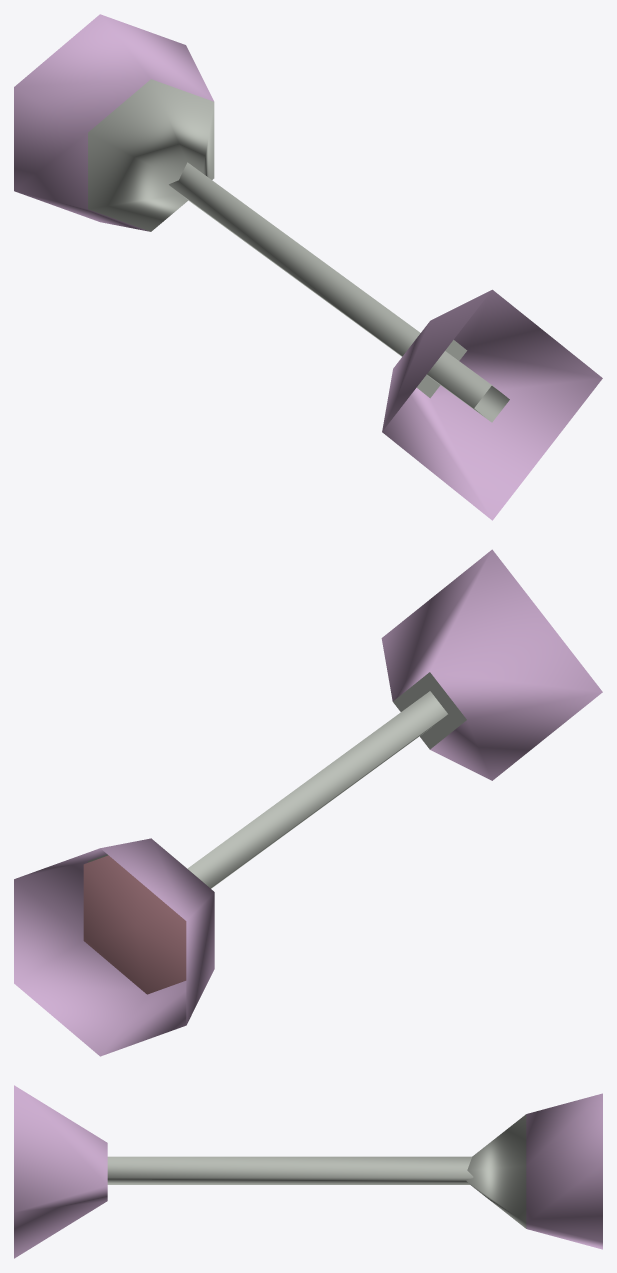
3 views of the same model, one above another, from view 1: azimuth 30°, elevation 25°; view 2: azimuth 150°, elevation 25°; view 3: azimuth 270°, elevation 25° (orthographic). The views are drawn at different scales.
Parts seen in each view (by area): view 1: Object31; view 2: Object31; view 3: Object31.
Boxes of the visible parts, left/top/right/bottom form: Object31: left=14, top=14, right=602, bottom=520; Object31: left=14, top=549, right=602, bottom=1056; Object31: left=14, top=1085, right=602, bottom=1258.
Size of the model in its own units: 5062 by 5062 by 15551.
